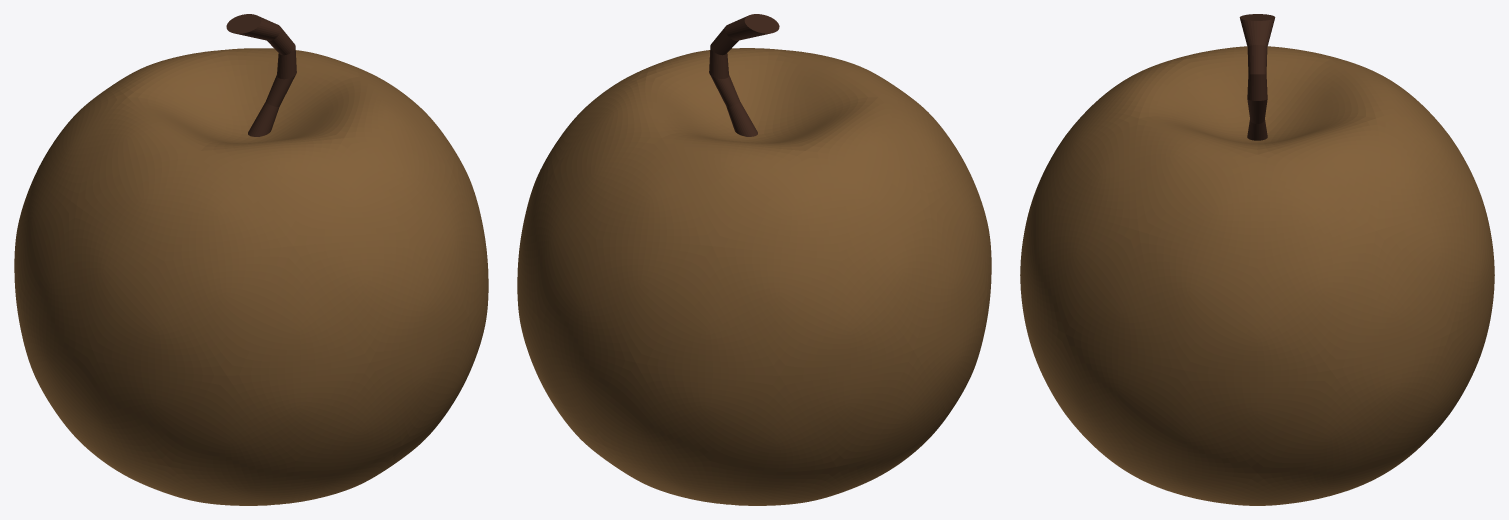
Rendered from AppleGold.glb.
3 renders of one model, left to right at view 1: azimuth 30°, elevation 25°; view 2: azimuth 150°, elevation 25°; view 3: azimuth 270°, elevation 25°, orthographic.
Parts seen in each view (by area): view 1: Icosphere, Cylinder; view 2: Icosphere, Cylinder; view 3: Icosphere, Cylinder.
Boxes of the visible parts, x1,y1,x2,y2 form: Icosphere: (14, 48, 488, 505); Cylinder: (226, 14, 296, 136); Icosphere: (517, 48, 991, 505); Cylinder: (709, 14, 779, 136); Icosphere: (1020, 46, 1494, 505); Cylinder: (1239, 14, 1275, 140).
Size of the model in its own units: 185 by 190 by 185.
